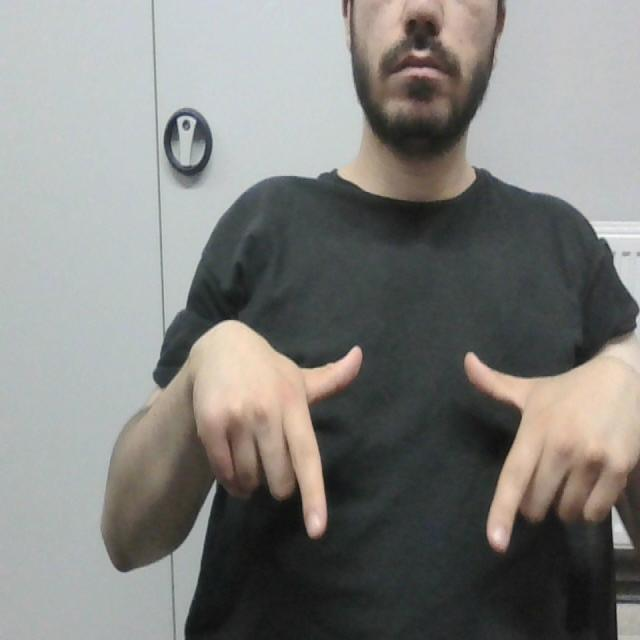Nerede: (275, 348, 564, 556)
